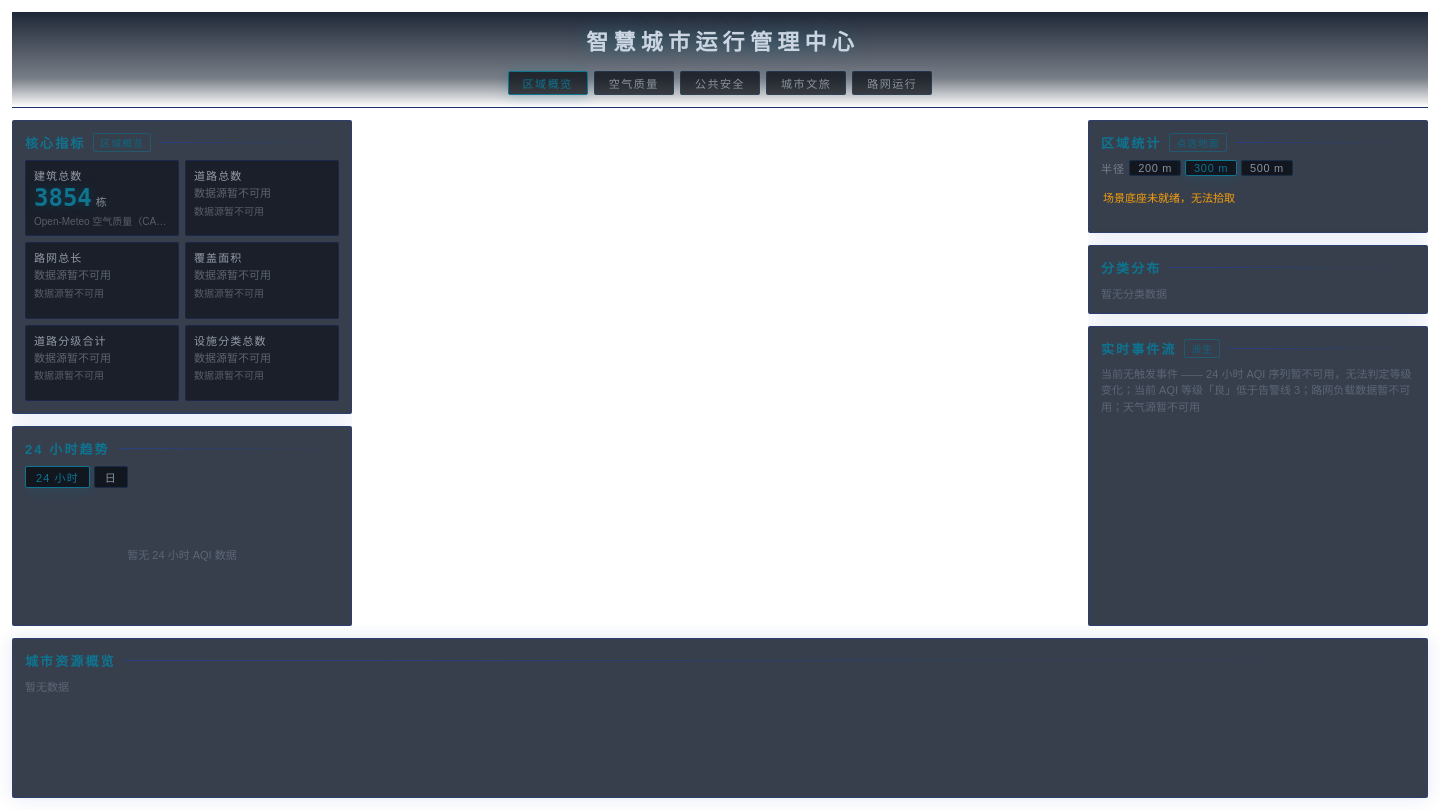
it: DashboardOverlay › puts the trend panel in the left column with both time views
The width and height of the screenshot is (1440, 810).
Expected: the element with class "dashboard-trend-panel" is shown, top-left (12, 426), bottom-right (352, 626)
Expected: the heading with class "dc-panel-title" reads "24 小时趋势", top-left (25, 442), bottom-right (110, 457)
Click the button with class "dc-trend-view" showing "日" at x=111, y=477, box top-left (94, 466), bottom-right (128, 488)
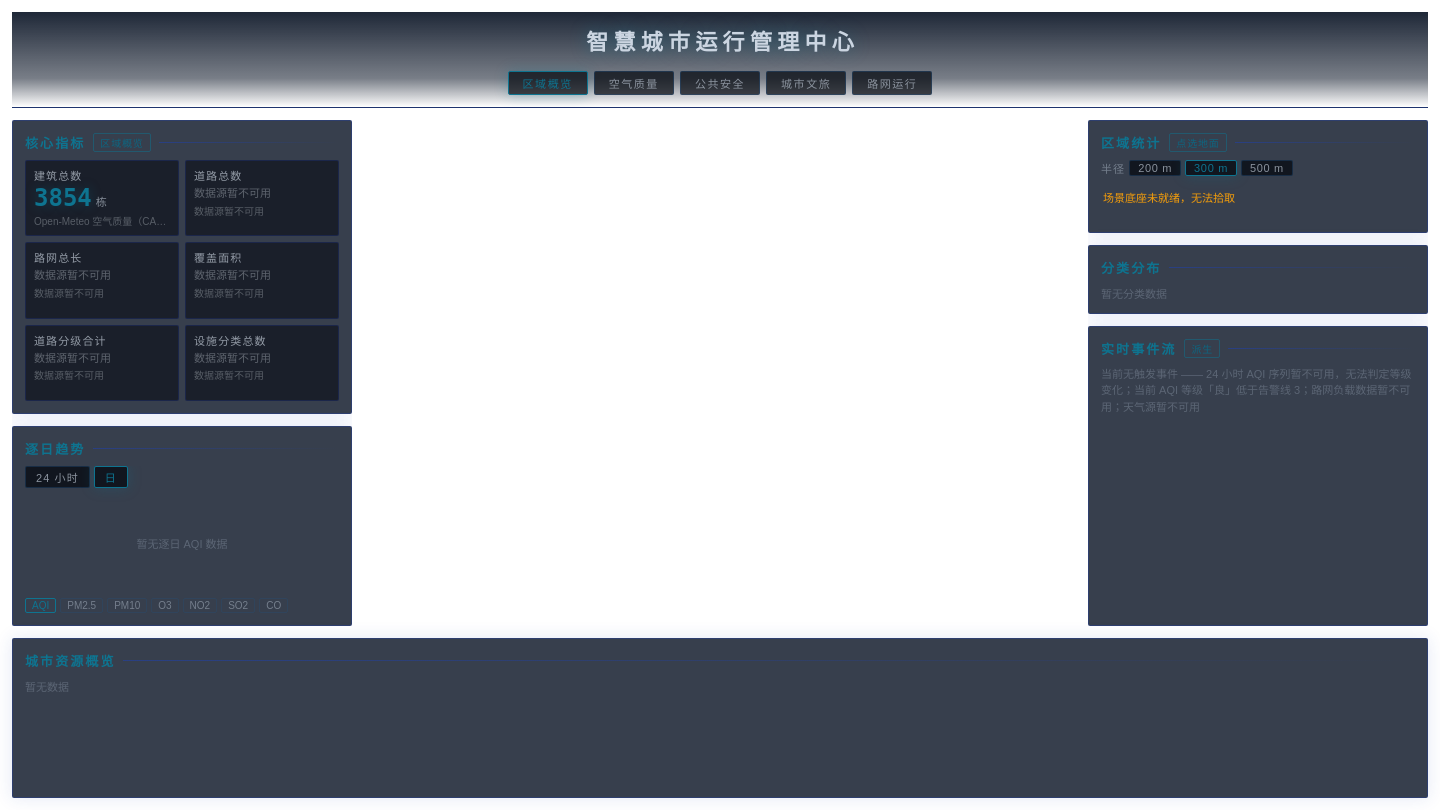
Result: the heading with class "dc-panel-title" reads "逐日趋势" at top-left (25, 442), bottom-right (85, 457)
